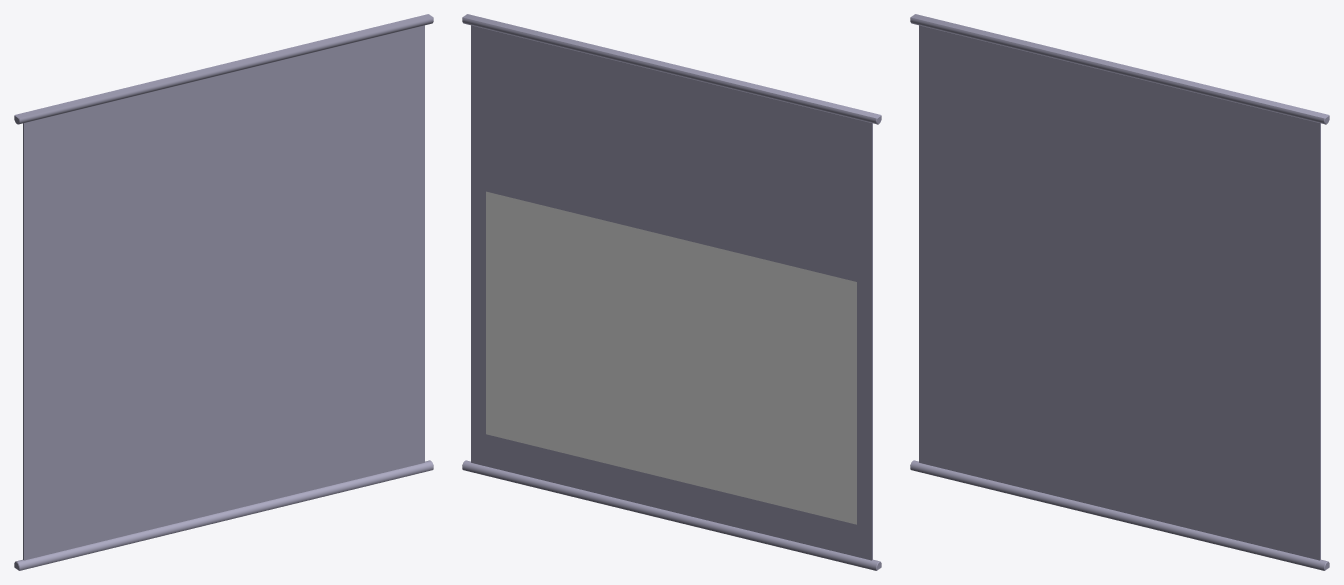
File: screen 1 w.fbx
3 views of the same model, side by side, from view 1: azimuth 30°, elevation 25°; view 2: azimuth 150°, elevation 25°; view 3: azimuth 330°, elevation 25° (orthographic).
Parts seen in each view (by area): view 1: screen 1; view 2: screen 1; view 3: screen 1.
Part boxes in pixels (left/top/right/bottom): screen 1: left=14, top=14, right=433, bottom=570; screen 1: left=462, top=14, right=881, bottom=570; screen 1: left=910, top=14, right=1329, bottom=570.
Size of the model in its own units: 0.0774 by 3.36 by 3.5.
